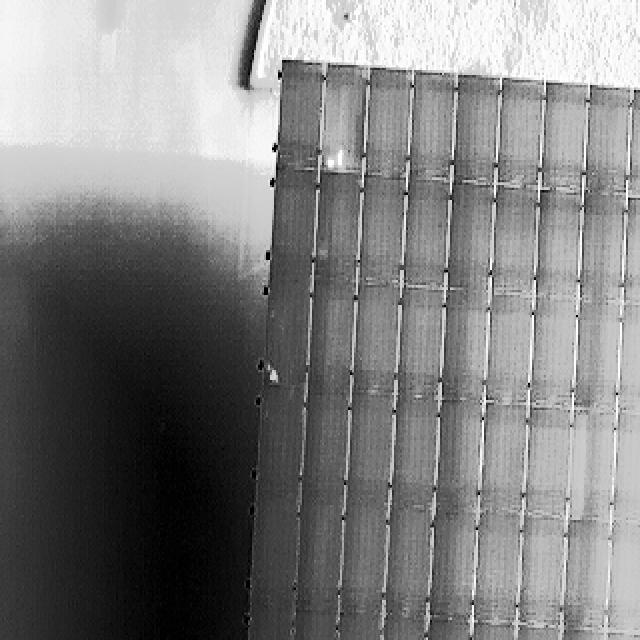Hotspots: (265, 367, 280, 386), (326, 154, 346, 167)
PV-modules: (252, 495, 300, 616), (296, 501, 345, 615), (500, 76, 550, 185), (472, 513, 520, 626), (338, 504, 386, 617), (532, 298, 580, 411), (384, 507, 432, 619), (475, 404, 522, 518), (567, 411, 615, 522), (437, 399, 484, 512), (563, 515, 610, 628), (391, 395, 438, 507), (442, 291, 489, 403), (344, 392, 391, 504), (401, 180, 449, 289), (256, 387, 304, 496), (410, 68, 457, 178), (524, 410, 571, 520), (309, 282, 355, 394), (521, 516, 568, 625), (356, 175, 403, 284), (302, 390, 349, 499), (484, 294, 530, 405), (572, 300, 618, 411), (320, 69, 367, 177), (396, 287, 442, 397), (352, 286, 398, 396), (426, 510, 472, 620), (265, 280, 310, 392), (270, 169, 315, 281), (540, 85, 587, 192), (537, 192, 583, 301), (580, 198, 626, 307), (276, 60, 322, 168), (362, 66, 408, 174), (314, 171, 358, 282), (585, 89, 631, 195), (454, 78, 499, 186), (491, 186, 536, 294), (449, 187, 494, 292), (602, 515, 640, 630), (612, 415, 640, 525), (616, 303, 640, 415), (620, 197, 640, 305), (626, 90, 640, 200), (246, 611, 296, 640), (290, 614, 340, 640), (335, 619, 386, 639), (382, 619, 431, 639), (422, 620, 471, 640)
